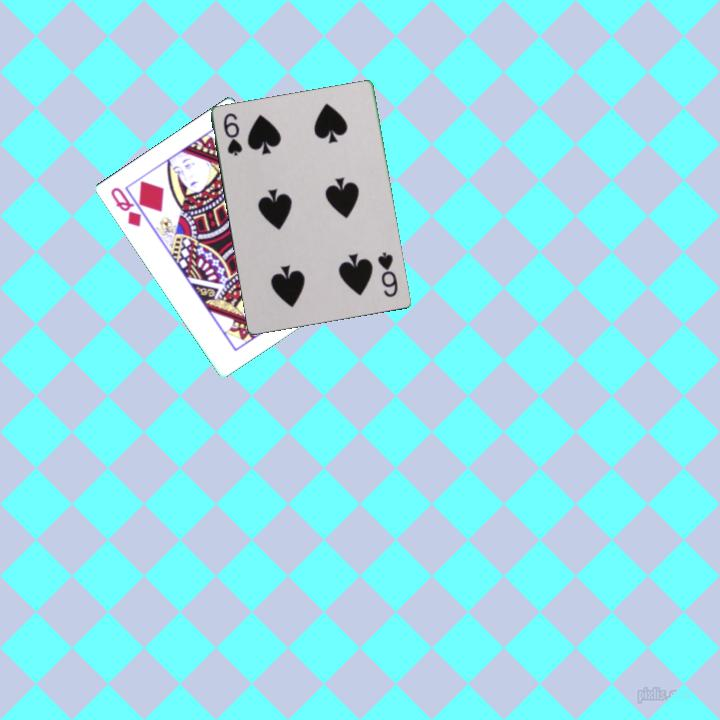6s: (374, 249, 401, 300), (220, 110, 246, 159)
Qd: (107, 183, 151, 230)
